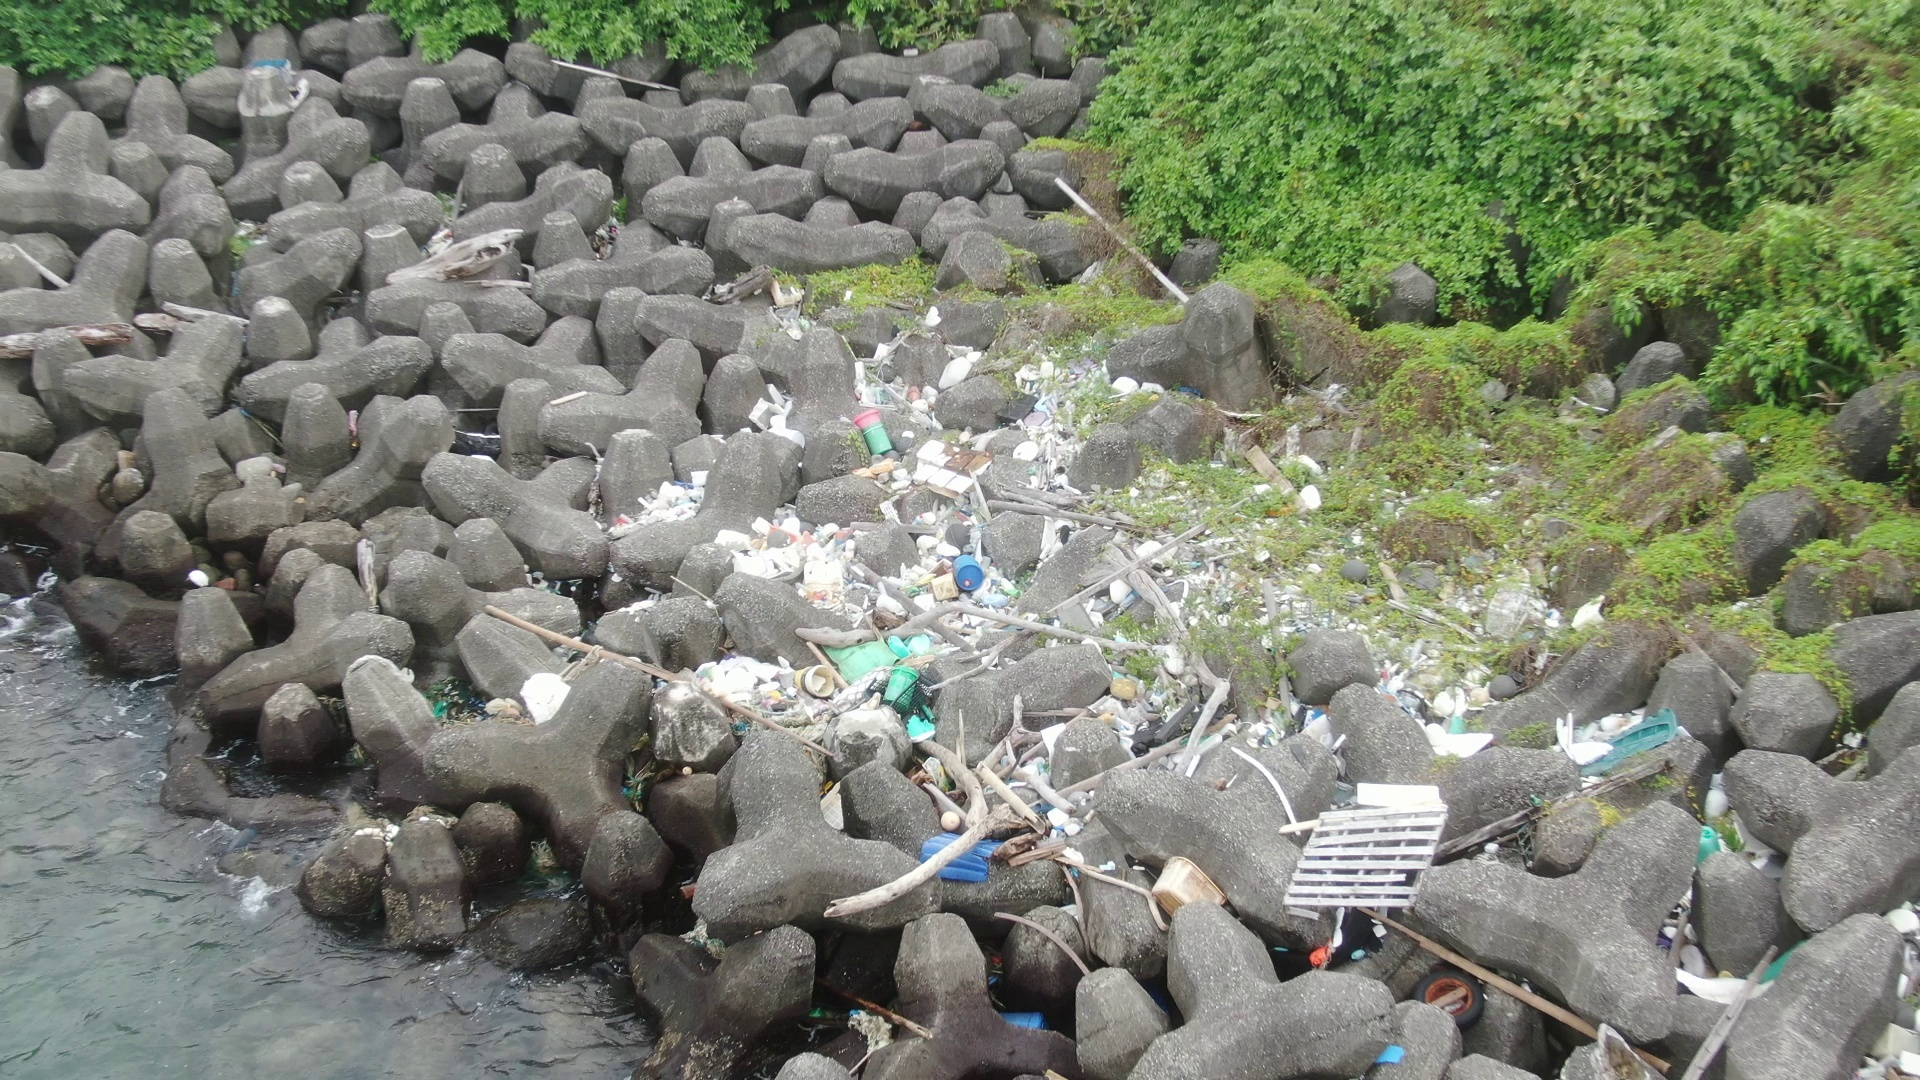garbage: (620, 287, 1503, 764), (1286, 774, 1452, 969), (1650, 806, 1805, 1011), (903, 761, 1143, 886), (1366, 956, 1514, 1068), (1545, 699, 1677, 790), (971, 935, 1064, 1043), (800, 992, 930, 1067), (1878, 881, 1917, 1080), (1149, 847, 1236, 926), (669, 872, 736, 963), (419, 669, 489, 727), (617, 752, 666, 818), (241, 49, 307, 86), (525, 831, 562, 884)
